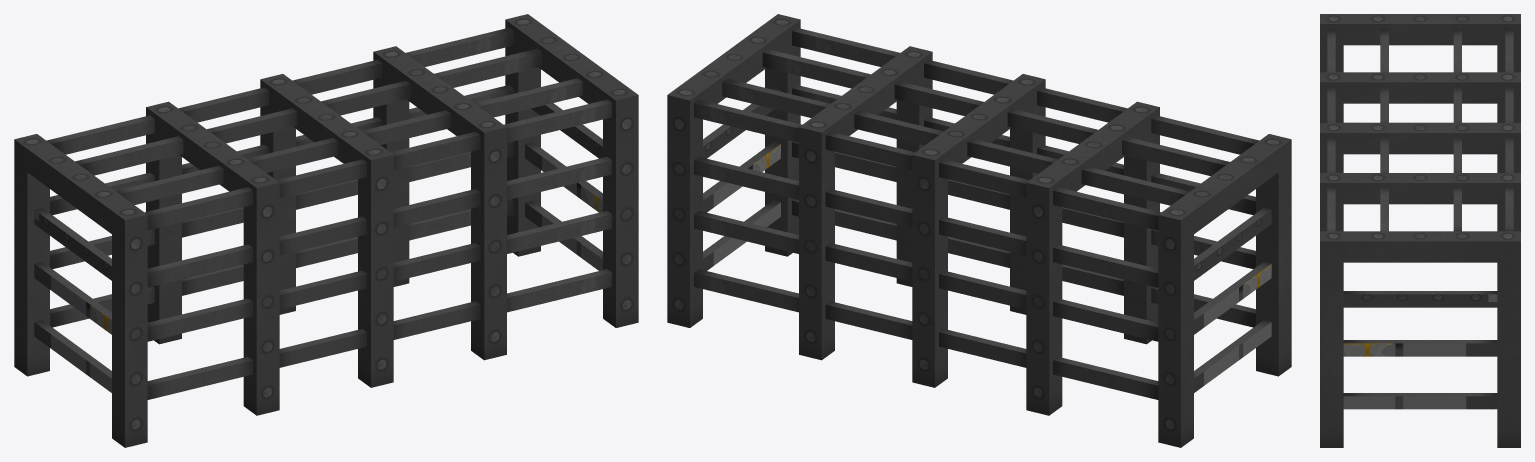
The model's file is SM_Cage.fbx.
3 views of the same model, side by side, from view 1: azimuth 30°, elevation 25°; view 2: azimuth 150°, elevation 25°; view 3: azimuth 270°, elevation 25° (orthographic). The views are drawn at different scales.
Visible parts, largest first — view 1: Cage; view 2: Cage; view 3: Cage.
Boxes of the visible parts, bbox=[...] form: Cage: bbox=[14, 14, 638, 447]; Cage: bbox=[667, 14, 1291, 447]; Cage: bbox=[1320, 14, 1520, 447].
Bounding box in the file's own units: 1370 × 580 × 511.
